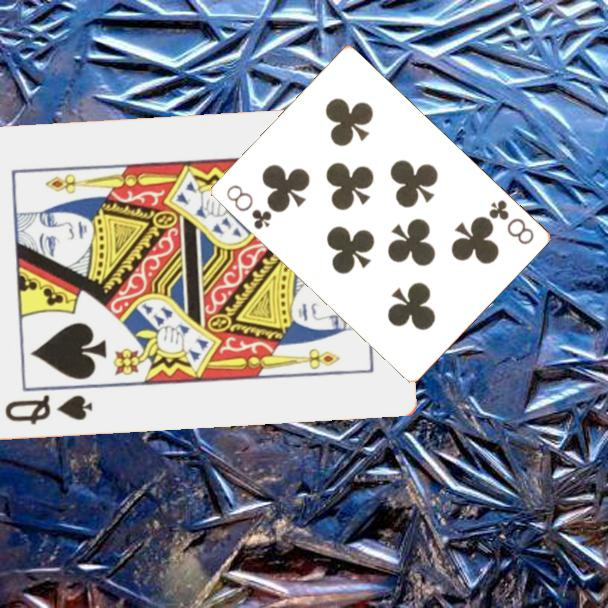c08: (222, 181, 274, 232), (485, 196, 536, 248)
s12: (1, 392, 95, 428)
